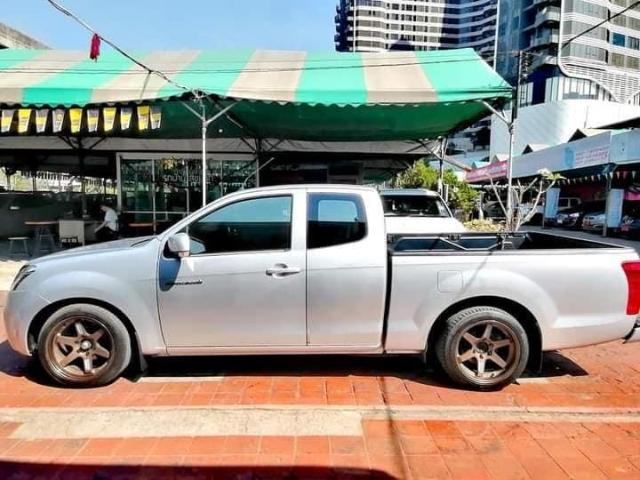pickup-truck: (0, 157, 640, 433)
